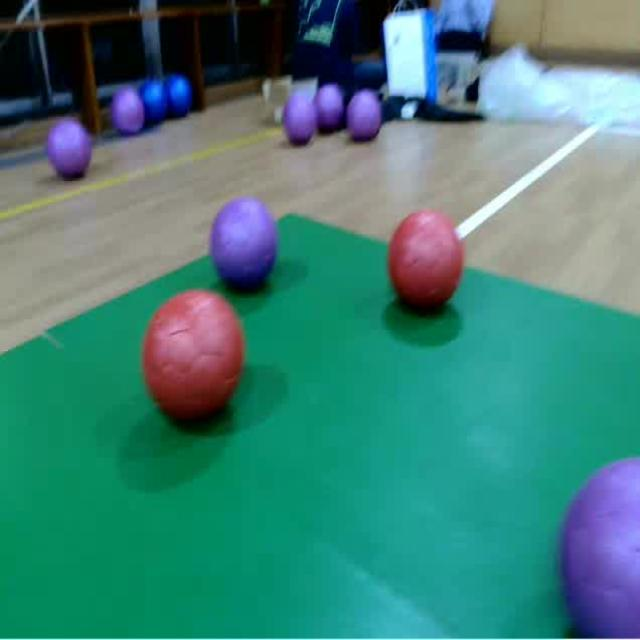blue_ball: (138, 79, 168, 119), (164, 76, 192, 115)
purple_ball: (561, 458, 640, 640), (213, 200, 277, 283), (48, 118, 90, 176), (114, 89, 145, 135), (285, 98, 317, 142), (350, 94, 380, 136), (317, 86, 344, 126)
red_ball: (145, 290, 244, 420), (390, 210, 464, 308)
